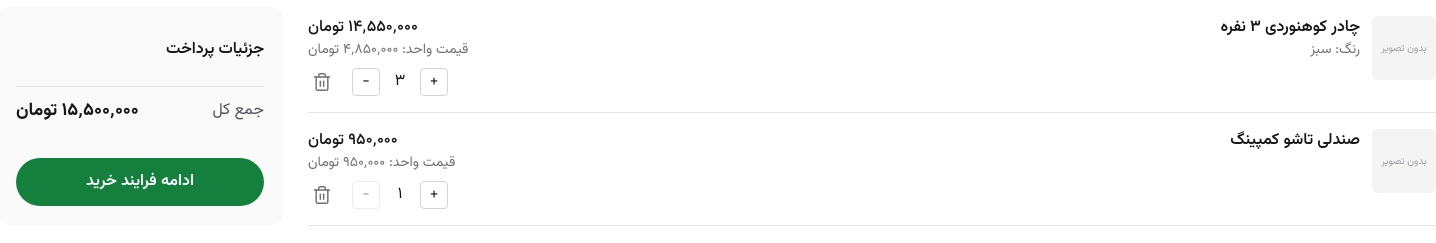
Test: CartPageContent › removes the row and updates the total once the backend confirms the removal
Step 1. Click the button named "حذف صندلی تاشو کمپینگ" → [322, 195], box [308,181,336,209]
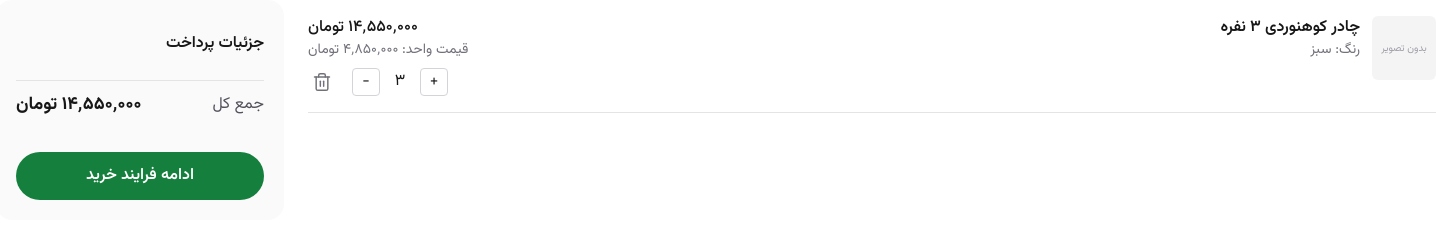
Expected: the link "چادر کوهنوردی ۳ نفره" is shown, [1221,15,1360,40]
Now the link "صندلی تاشو کمپینگ" is gone
